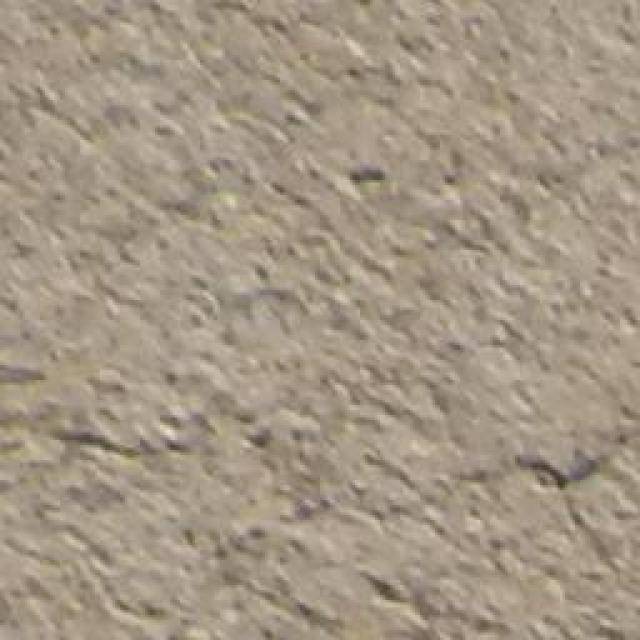concrete-crack: (26, 436, 637, 640)
